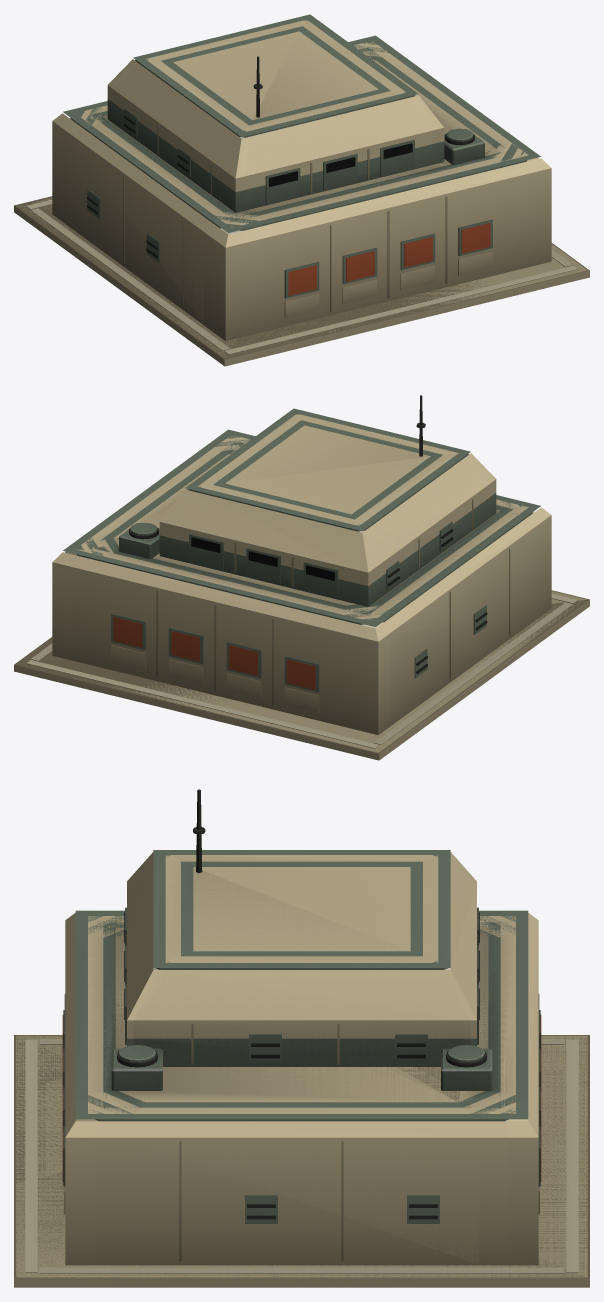
The model's file is neutral_archive_building.glb.
3 views of the same model, one above another, from view 1: azimuth 30°, elevation 25°; view 2: azimuth 150°, elevation 25°; view 3: azimuth 270°, elevation 25° (orthographic). The views are drawn at different scales.
Parts seen in each view (by area): view 1: body (×3); view 2: body (×3); view 3: body (×3).
Part boxes in pixels (x1,y1,x2,y2): body (×3): (14,14,589,366); body (×3): (14,395,589,760); body (×3): (14,789,589,1287).
Bounding box in the file's own units: 11.2 × 6.9 × 11.2.
